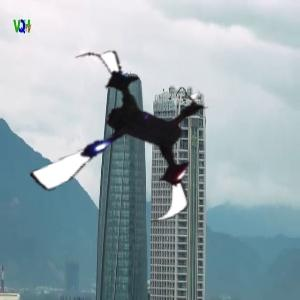drone: (25, 43, 223, 241)
